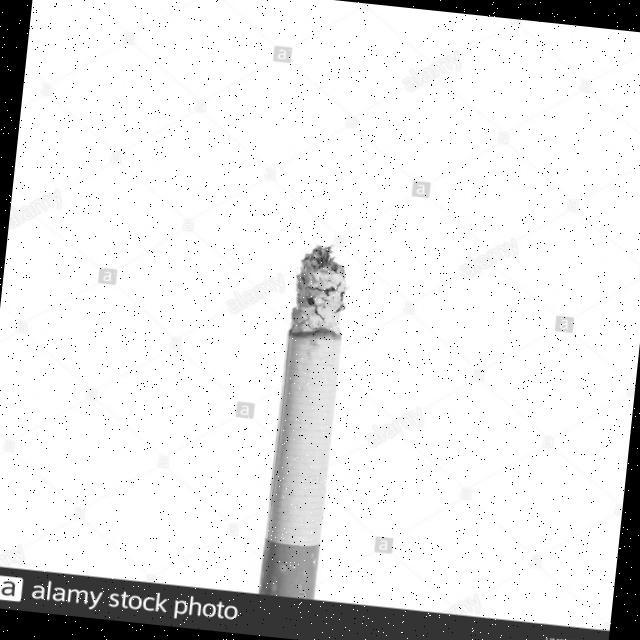cigarette: (258, 232, 356, 602)
